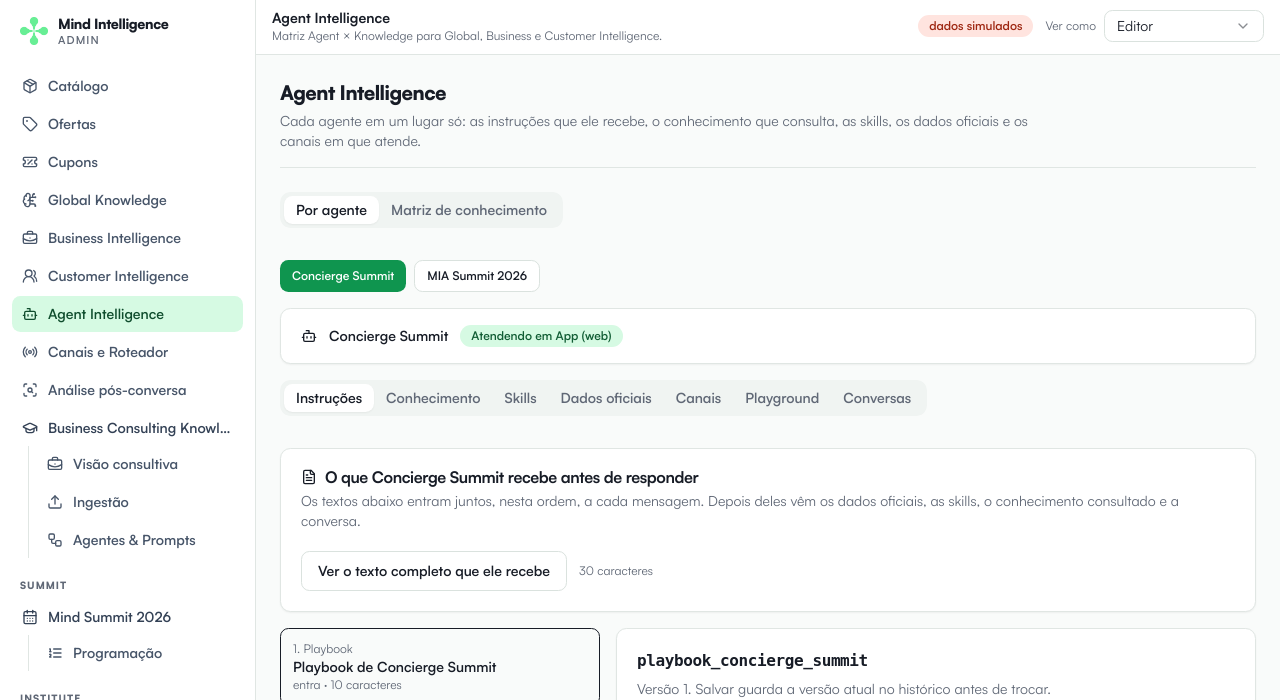
Test: playground › quem não é administrador não testa
The image size is (1280, 700).
Click the button "MIA Summit 2026".
click(477, 276)  # box [414,260,540,292]
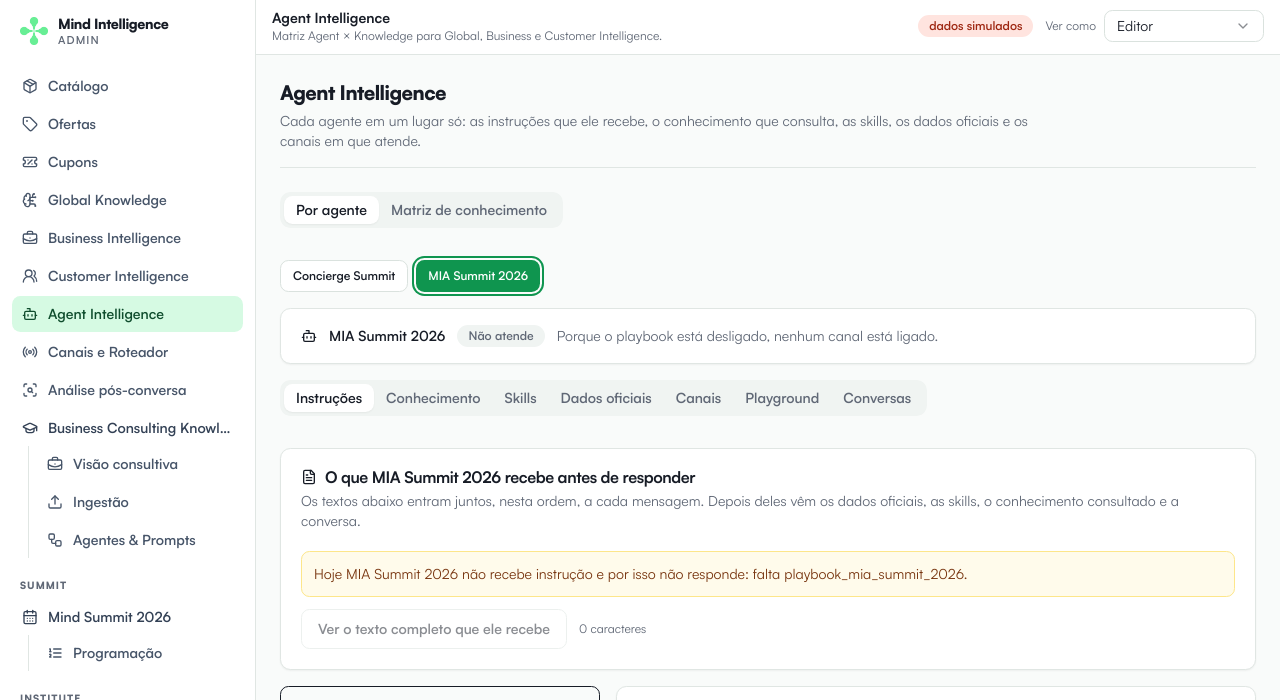
Click the tab "Playground".
click(782, 398)  # box [733,384,831,412]
(page scrolled)
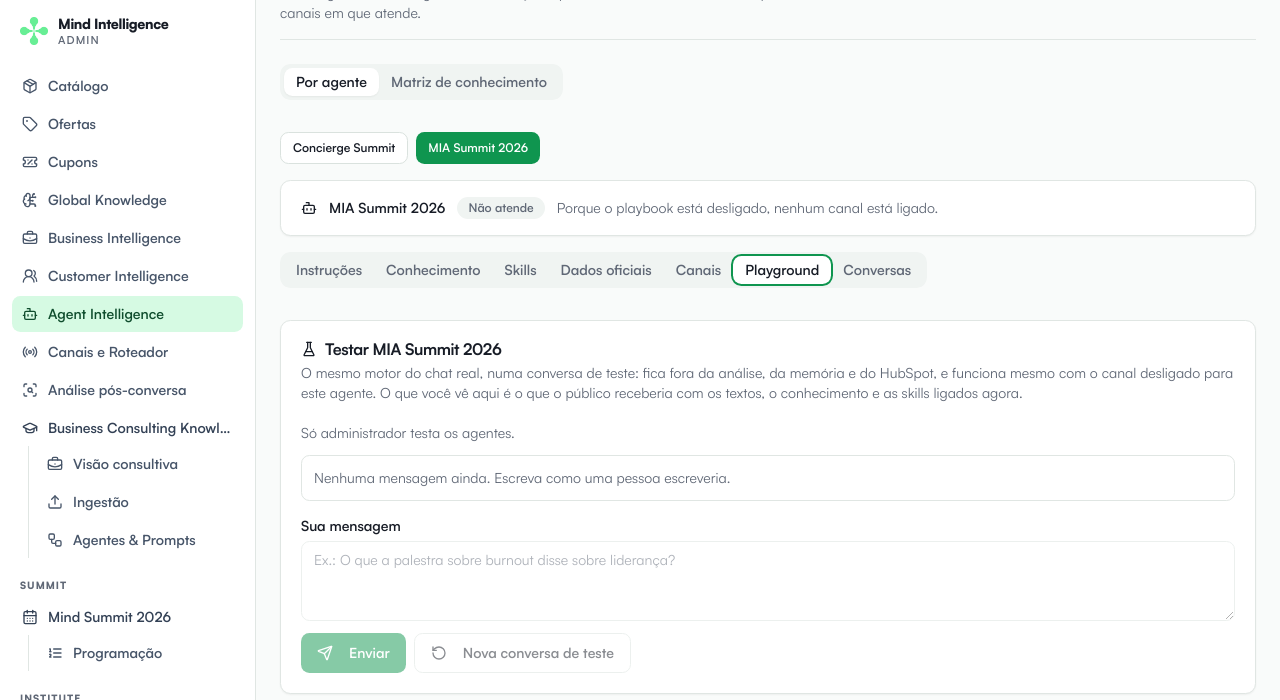
Check: the text box labelled "Sua mensagem" is disabled, box [301,541,1235,621]
